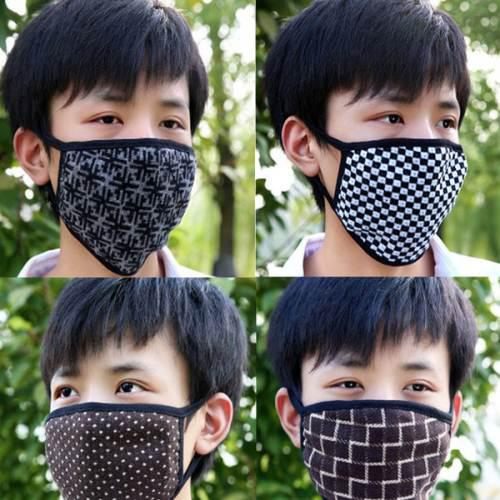OK: (63, 89, 199, 265), (305, 348, 457, 500), (334, 89, 468, 257), (39, 355, 188, 500)
